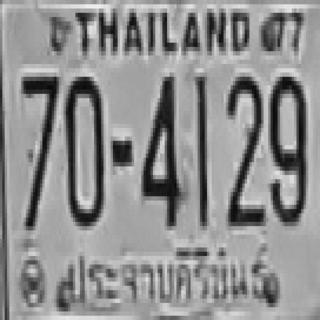N00: (65, 73, 102, 222)
N01: (195, 75, 207, 224)
N02: (226, 73, 264, 222)
N04: (141, 73, 179, 222)
N07: (19, 73, 57, 226)
N09: (268, 73, 306, 222)
P50: (60, 240, 271, 313)
